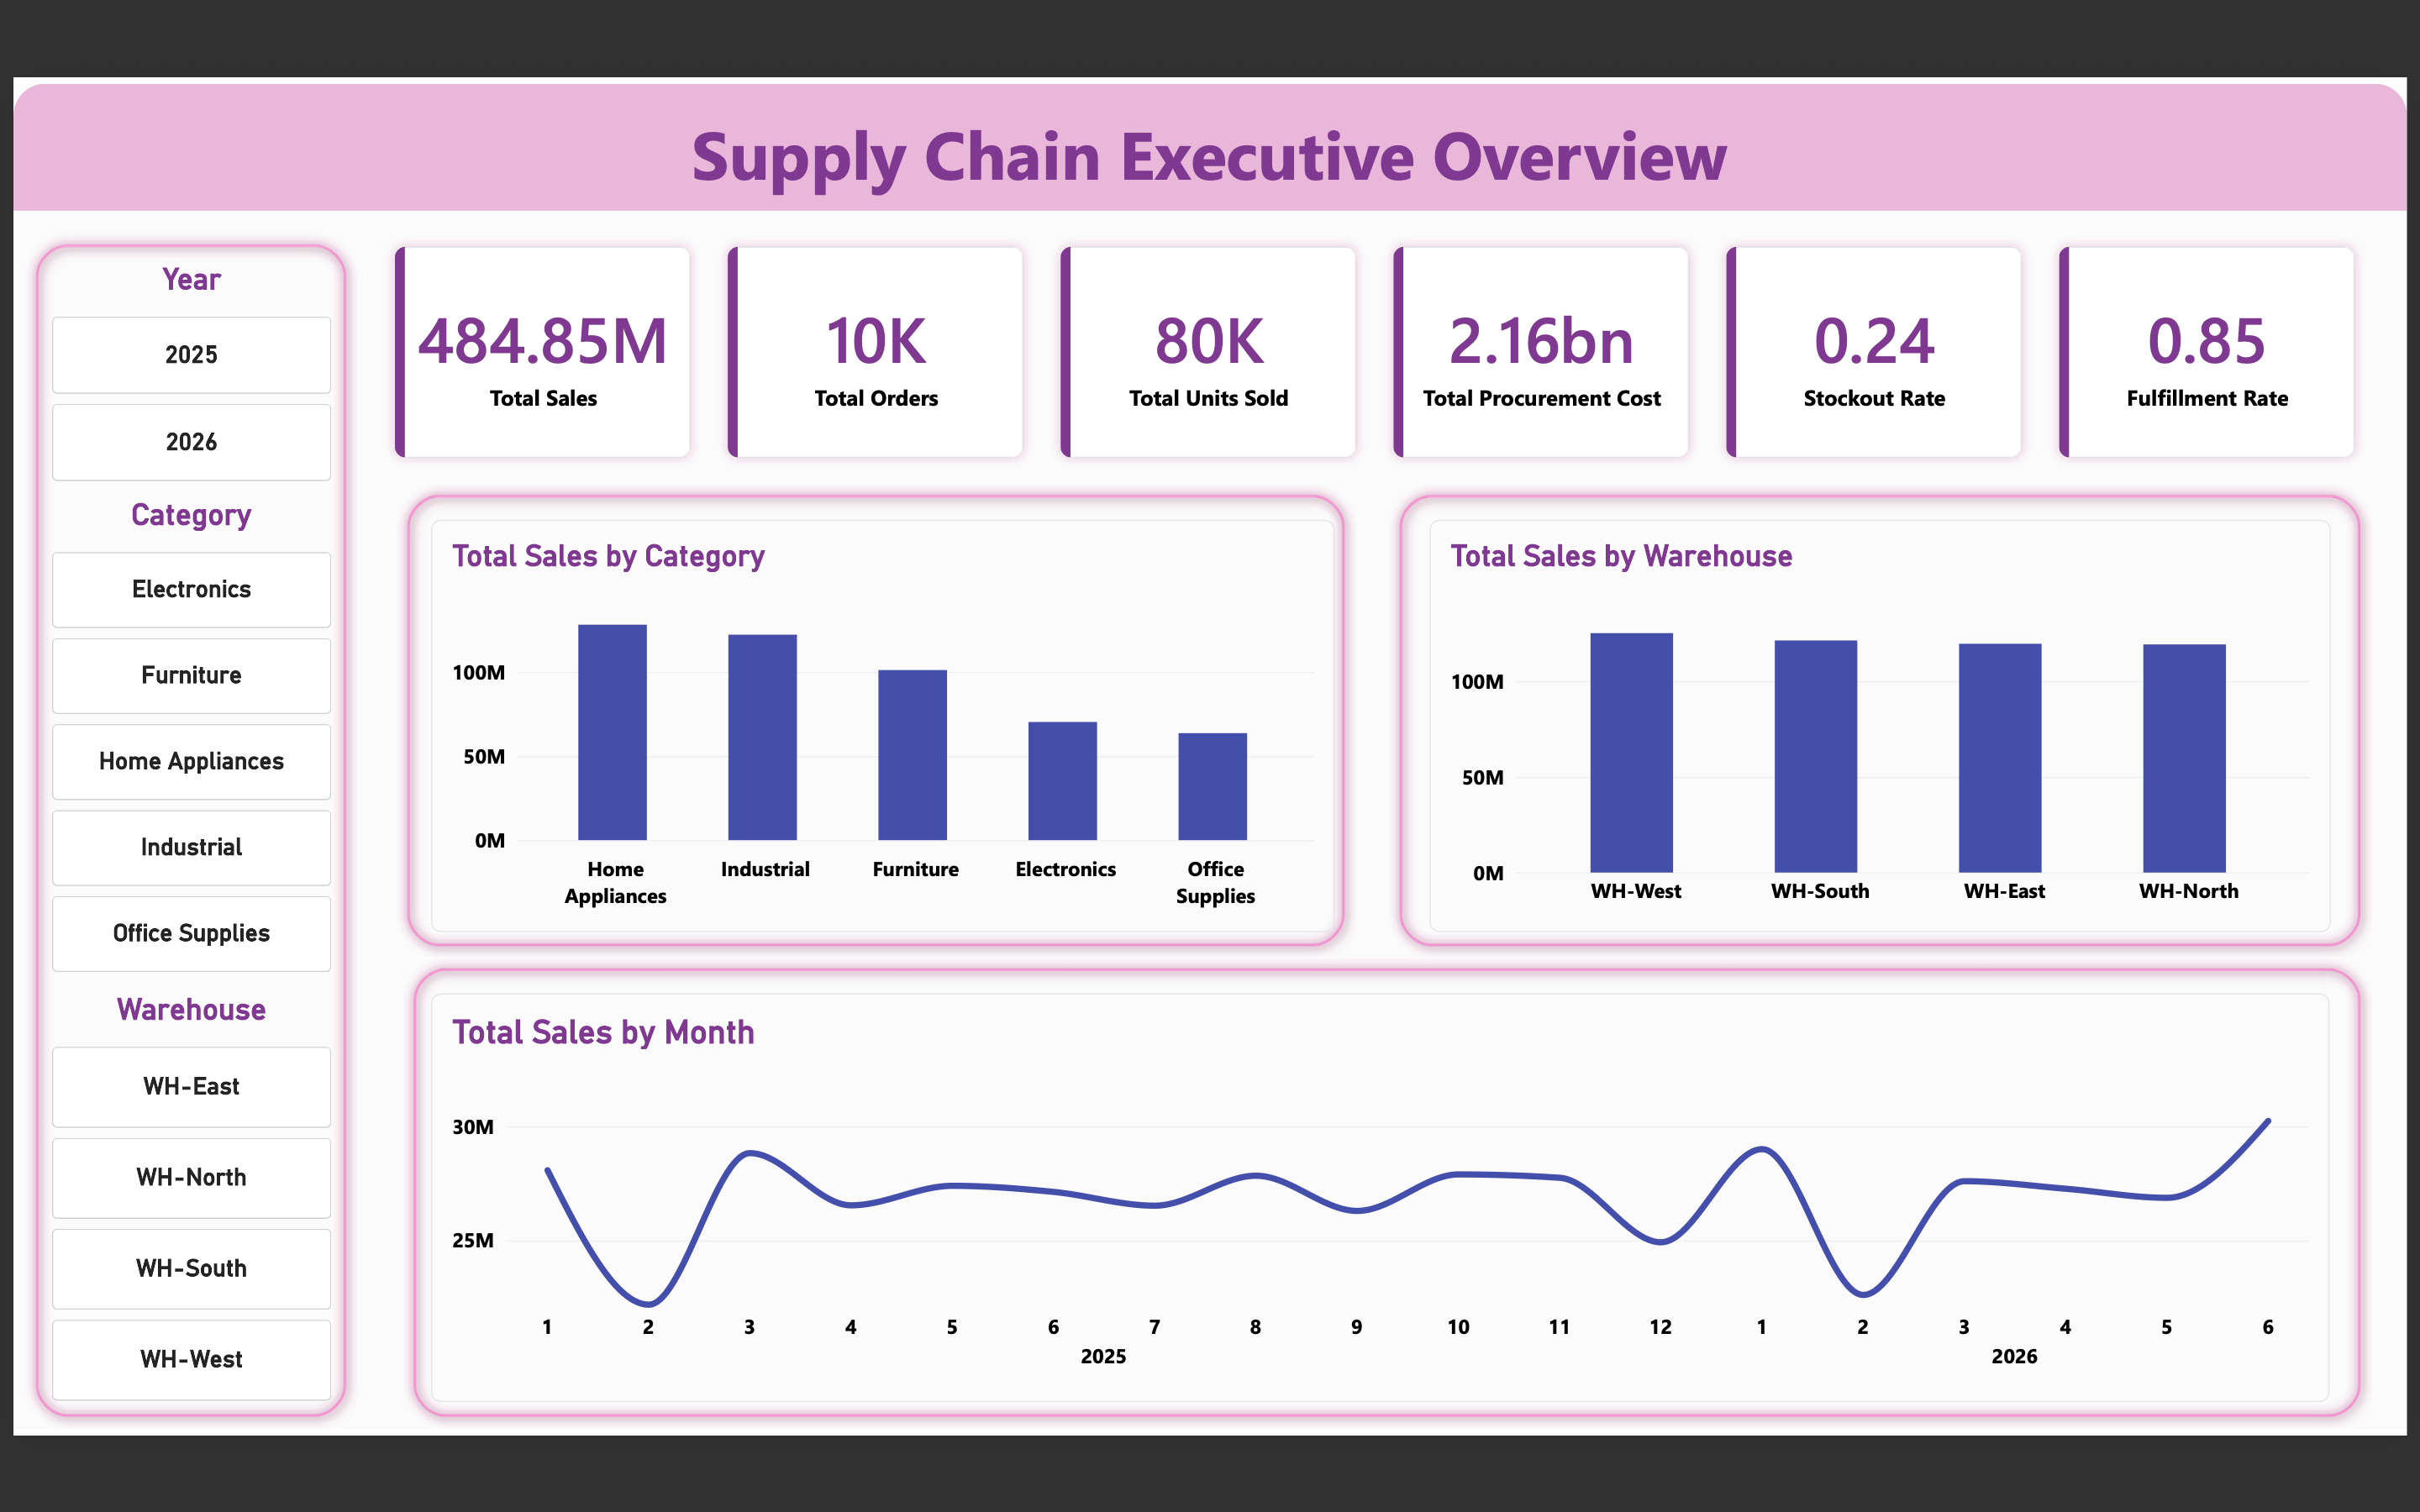

What the dashboard file says about the page in this screenshot:
{"tool":"powerbi","page":{"name":"Executive Overview","canvas":[1920,1080],"ordinal":0},"visuals":[{"type":"shape","box":[0,0,1920,102.1],"z":0},{"type":"shape","box":[9.4,120.4,266.9,958.8],"z":1},{"type":"shape","box":[311.7,701.4,1579.9,377.9],"z":2},{"type":"shape","box":[1102.9,321.2,788.8,380.2],"z":3},{"type":"shape","box":[307,321.2,769.9,380.2],"z":4},{"type":"cardVisual","fields":{"Data":["Orders.Total Sales","Orders.Total Orders","Orders.Total Units Sold","Procurement.Total Procurement Cost","Inventory.Stockout Rate","Orders.Fulfillment Rate"]},"box":[295.2,120.4,1596.5,191.3],"z":6},{"type":"lineChart","title":"Total Sales by Month","fields":{"Category":["Orders.order_year","Orders.order_month"],"Y":["Orders.Total Sales"]},"box":[335.4,729.7,1523.2,328.3],"z":7},{"type":"clusteredColumnChart","title":"Total Sales by Category","fields":{"Category":["Products.category"],"Y":["Orders.Total Sales"]},"box":[335.4,349.5,725,330.6],"z":8},{"type":"clusteredColumnChart","title":"Total Sales by Warehouse","fields":{"Category":["Orders.warehouse"],"Y":["Orders.Total Sales"]},"box":[1135.9,349.5,722.7,330.6],"z":9},{"type":"advancedSlicerVisual","title":"Year","fields":{"Values":["Orders.order_year"]},"box":[31.4,143.5,224,176.9],"z":10},{"type":"advancedSlicerVisual","title":"Category","fields":{"Values":["Products.category"]},"box":[31.4,332.1,224,383.2],"z":11},{"type":"advancedSlicerVisual","title":"Warehouse","fields":{"Values":["Orders.warehouse"]},"box":[31.4,729.1,224,328.2],"z":12}]}

Visuals, with their boxes on the page's 1920x1080 design canvas (x1, y1, x2, y2). These are canvas units, not pixel positions in the 2420x1512 screenshot, which may show the page scaled, cropped or inside an application window:
shape: (0,0,1920,102)
shape: (9,120,276,1079)
shape: (312,701,1892,1079)
shape: (1103,321,1892,701)
shape: (307,321,1077,701)
cardVisual - Orders.Total Sales x Orders.Total Orders: (295,120,1892,312)
"Total Sales by Month" lineChart: (335,730,1859,1058)
"Total Sales by Category" clusteredColumnChart: (335,350,1060,680)
"Total Sales by Warehouse" clusteredColumnChart: (1136,350,1859,680)
"Year" advancedSlicerVisual: (31,144,255,320)
"Category" advancedSlicerVisual: (31,332,255,715)
"Warehouse" advancedSlicerVisual: (31,729,255,1057)
